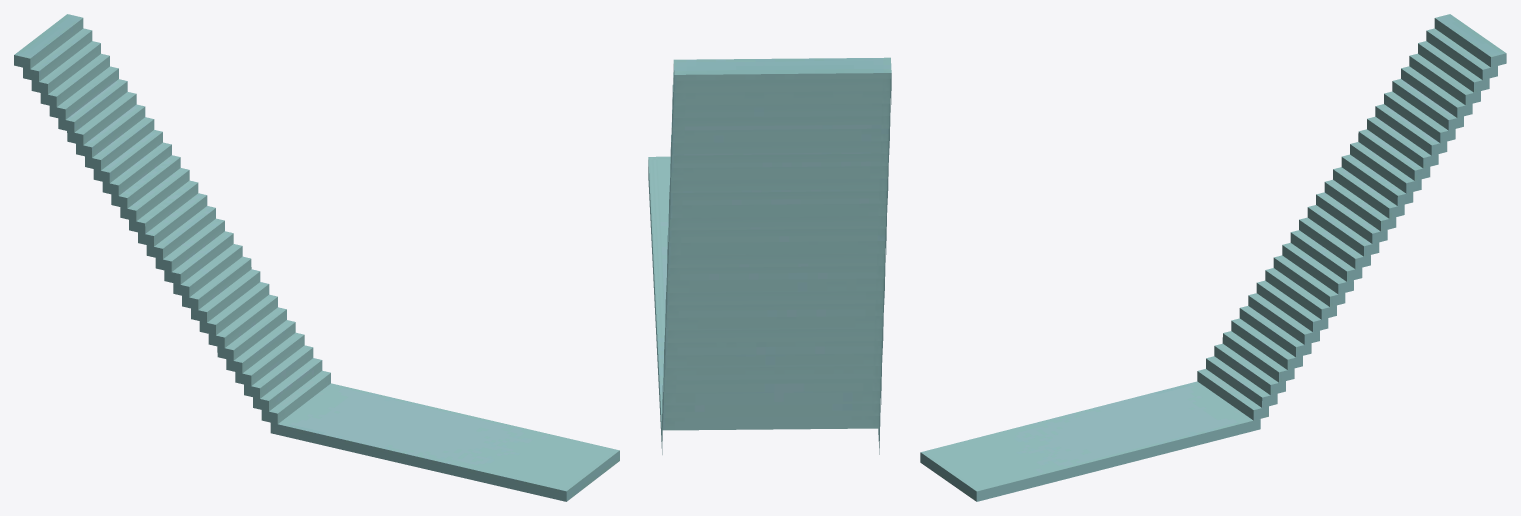
The model's file is stairs.glb.
3 views of the same model, side by side, from view 1: azimuth 30°, elevation 25°; view 2: azimuth 150°, elevation 25°; view 3: azimuth 270°, elevation 25° (orthographic). The views are drawn at different scales.
Parts seen in each view (by area): view 1: Stairs; view 2: Stairs; view 3: Stairs.
Boxes of the visible parts, x1,y1,x2,y2 form: Stairs: [14, 14, 619, 501]; Stairs: [648, 57, 891, 454]; Stairs: [920, 14, 1506, 501].
Bounding box in the file's own units: 13.13 × 10.97 × 18.6.
Materials: 1 (1 with a texture image).
